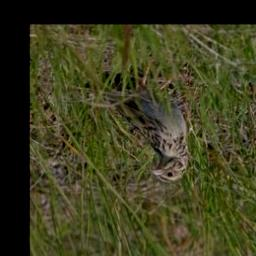Sparrow: (81, 56, 190, 186)
